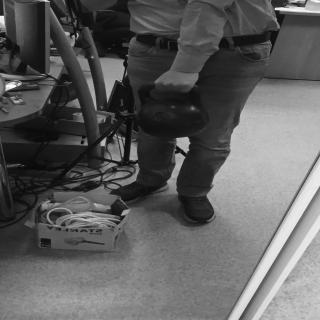girya: (137, 81, 209, 139)
